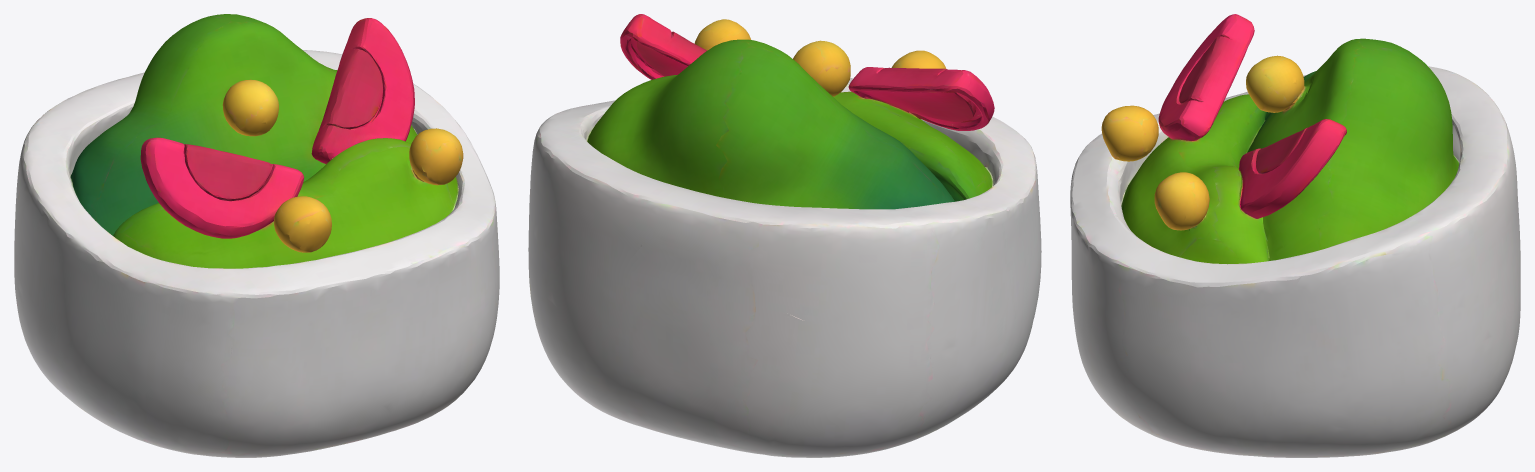
File: salad.glb
3 views of the same model, side by side, from view 1: azimuth 30°, elevation 25°; view 2: azimuth 150°, elevation 25°; view 3: azimuth 270°, elevation 25° (orthographic). The views are drawn at different scales.
Parts seen in each view (by area): view 1: Mesh; view 2: Mesh; view 3: Mesh.
Boxes of the visible parts, x1=… form: Mesh: x1=14, y1=14, x2=499, y2=457; Mesh: x1=528, y1=14, x2=1041, y2=457; Mesh: x1=1070, y1=14, x2=1520, y2=457.
Bounding box in the file's own units: 1 × 0.7744 × 0.9463.
1 material, 1 textured.
